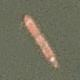ship: (0, 0, 5, 29)
